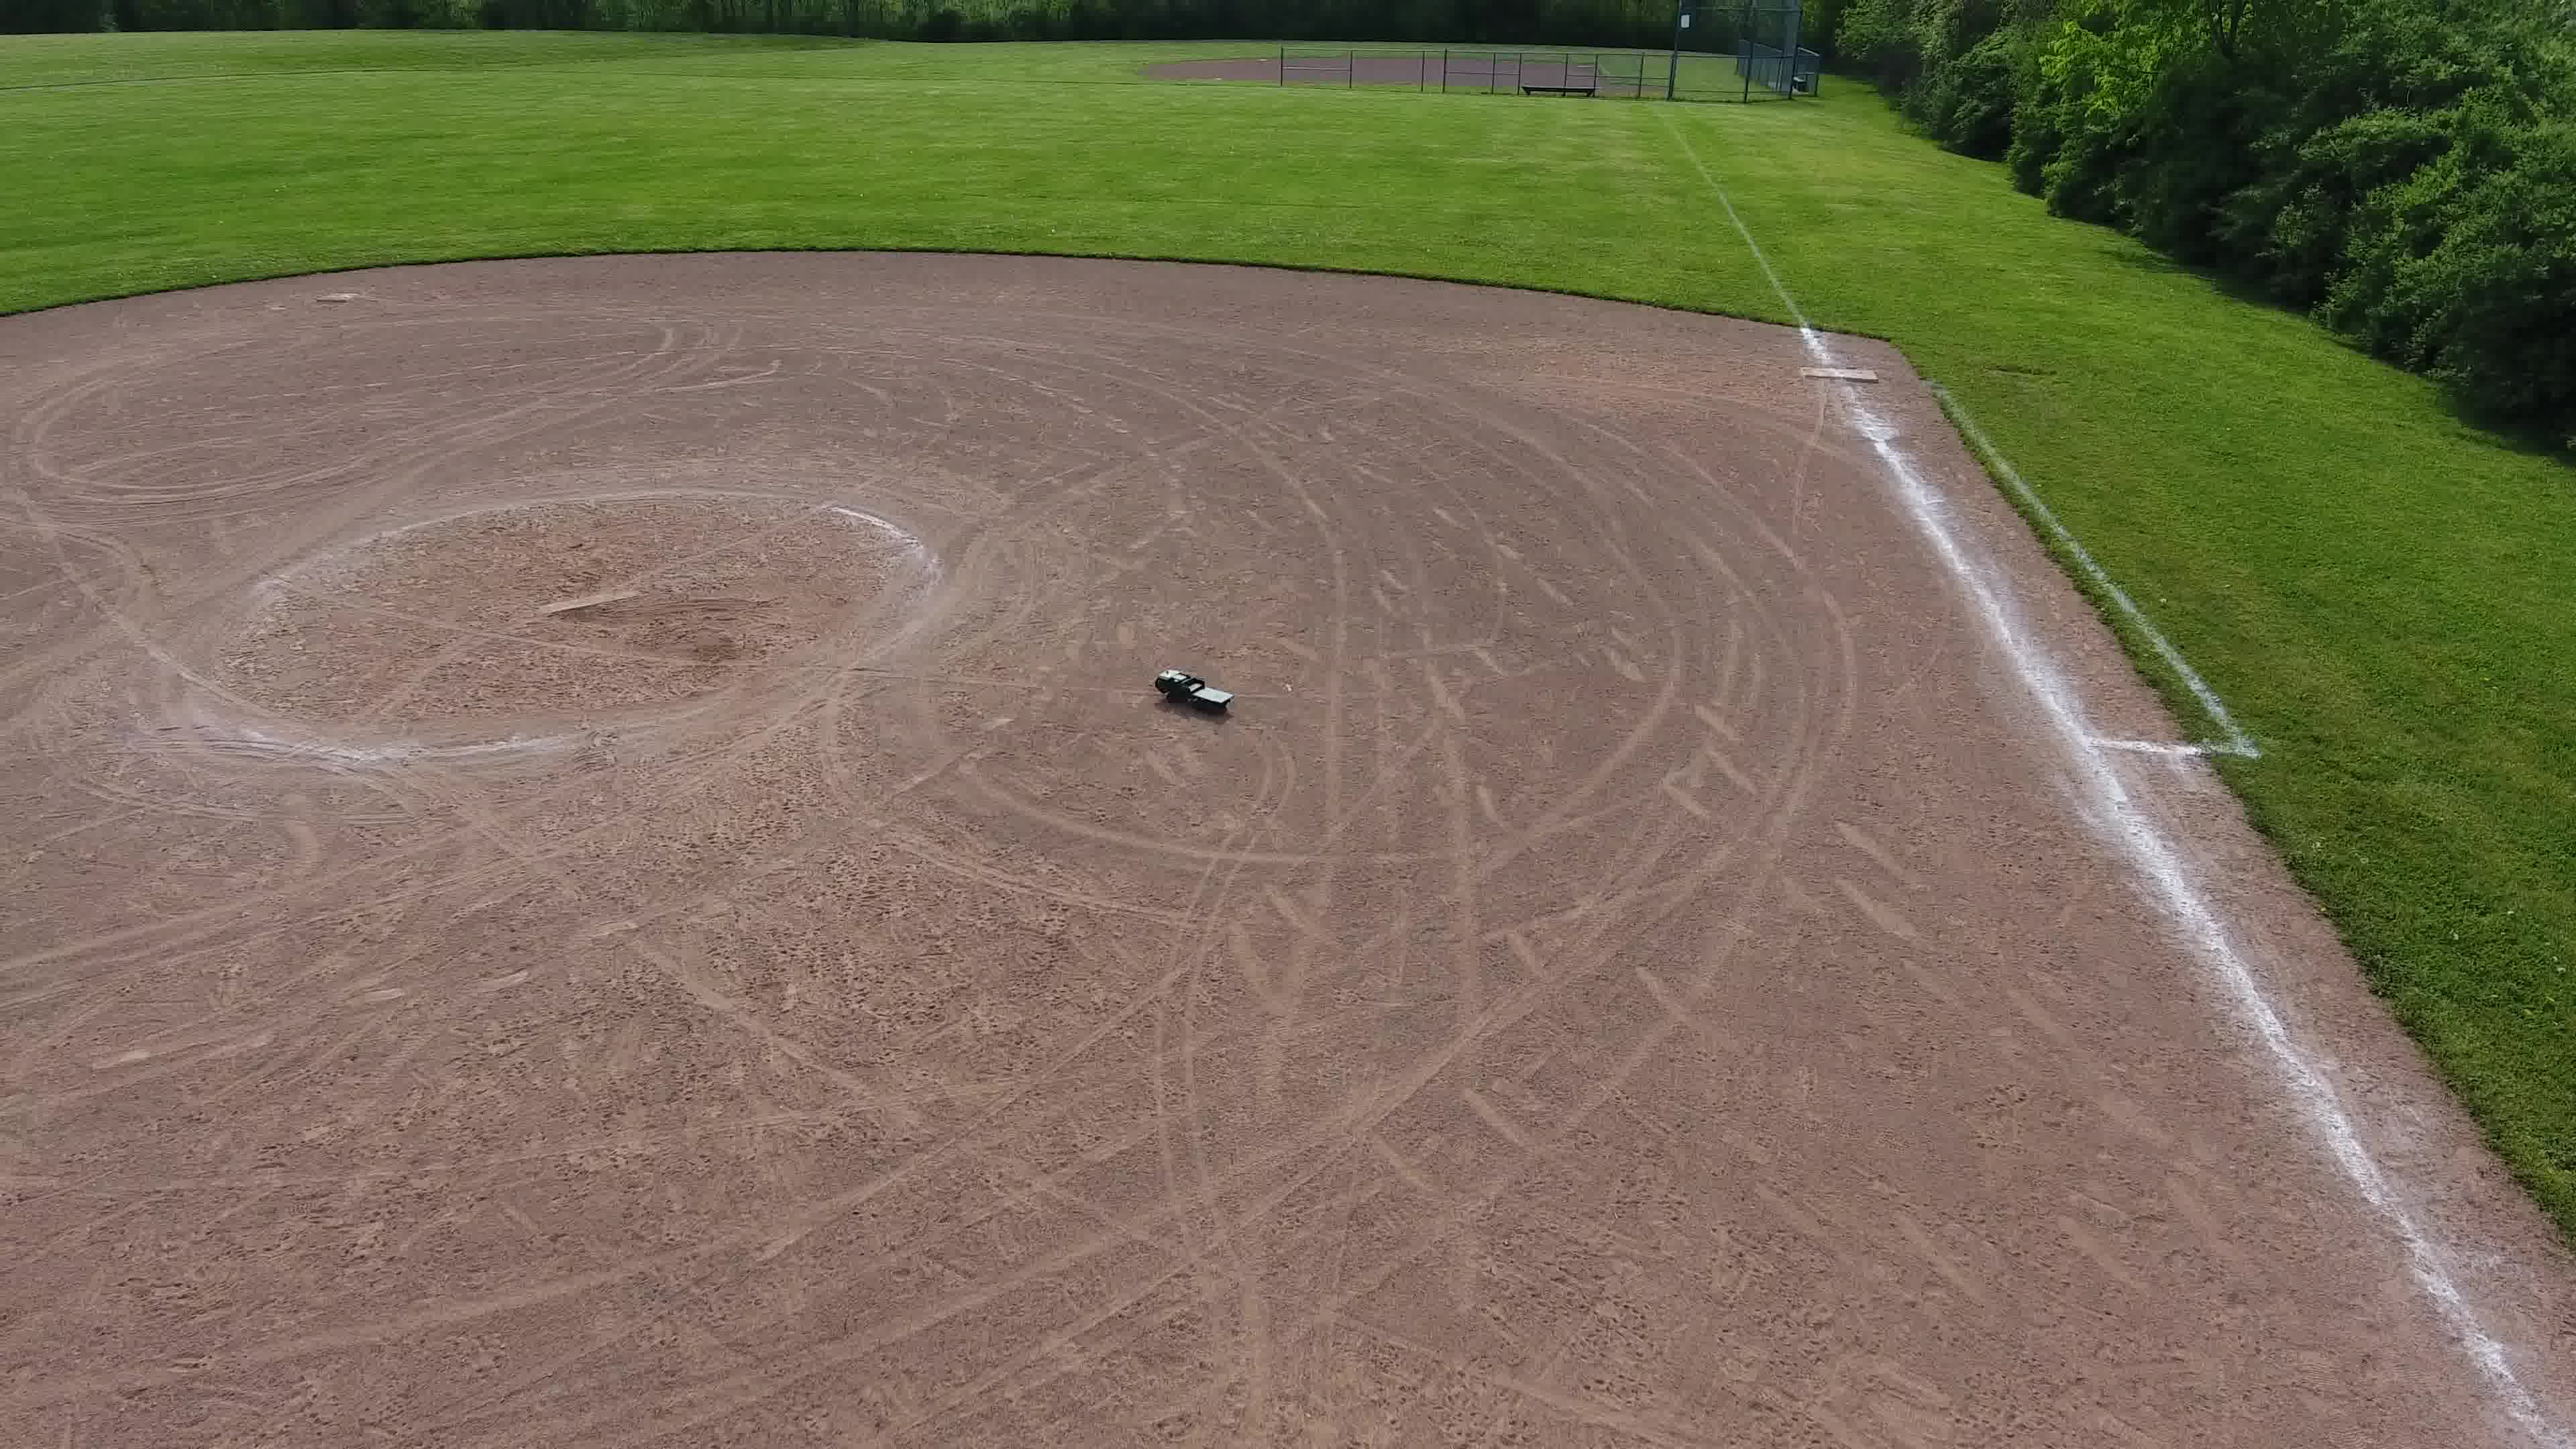transporter9: (1152, 667, 1238, 720)
